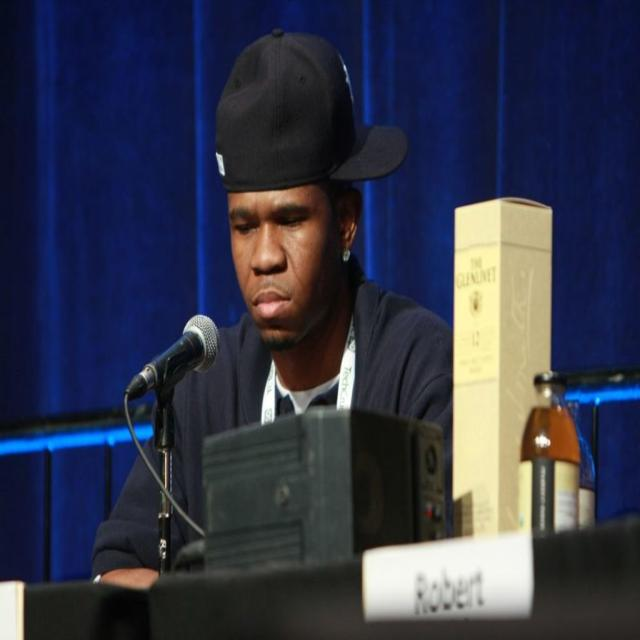Hat: (214, 29, 406, 191)
